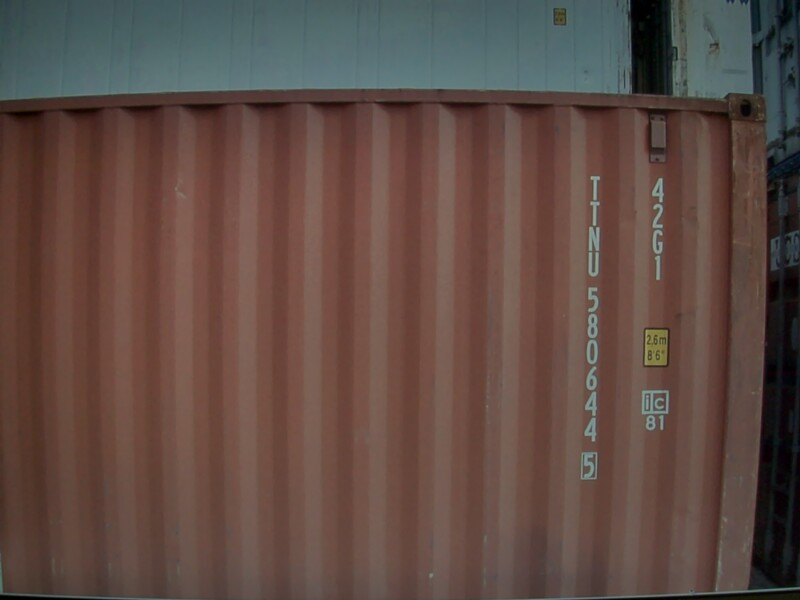container_no_door: (252, 76, 778, 528)
